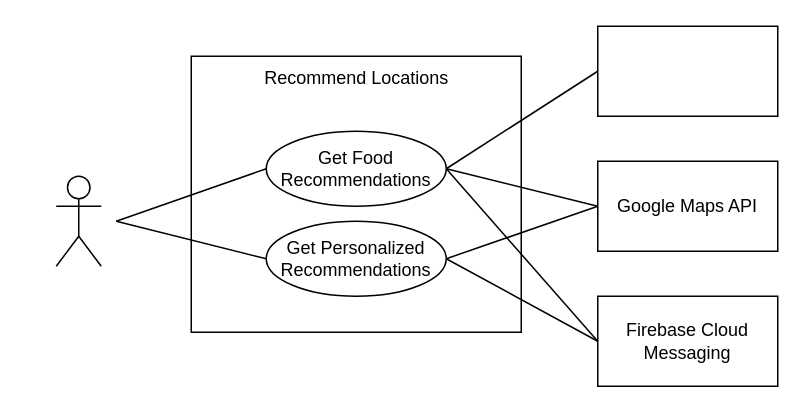
The diagram is 804 pixels wide and 413 high, and some of its shapes have lost their labels. The centre of each missing label's shape, as x and y in pixels:
"OpenWeather API" belongs at [687,70].
"Student User" belongs at [78,220].
